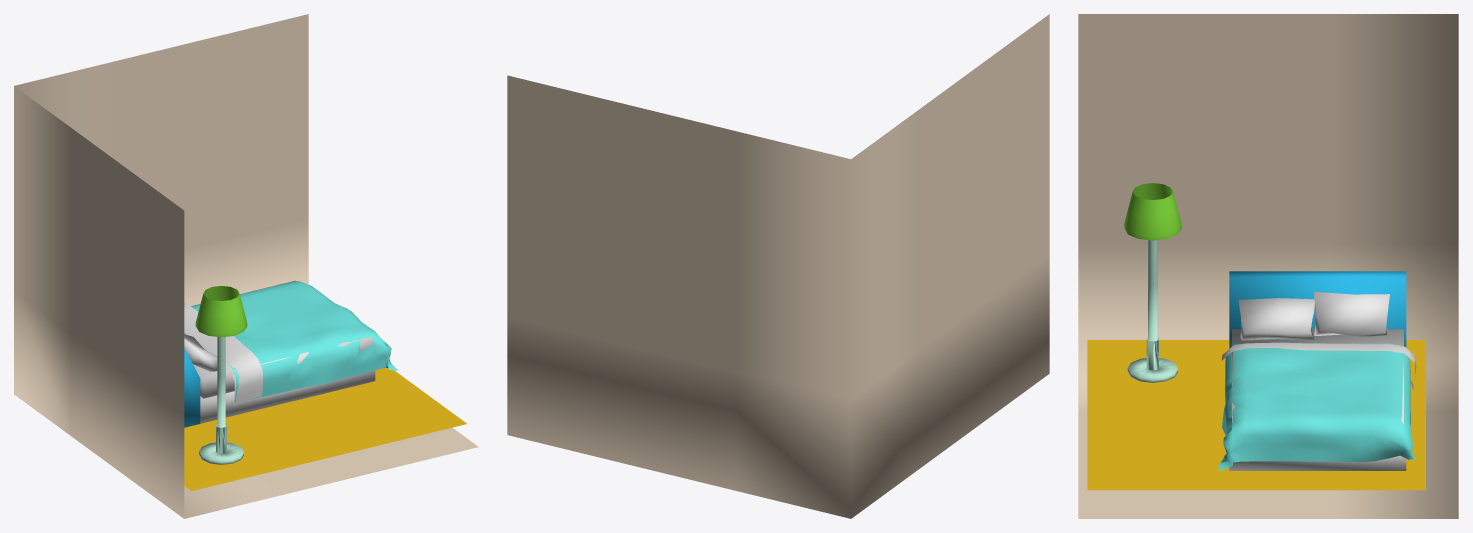
File: stamp03.glb
3 views of the same model, side by side, from view 1: azimuth 30°, elevation 25°; view 2: azimuth 150°, elevation 25°; view 3: azimuth 270°, elevation 25° (orthographic). The views are drawn at different scales.
Visible parts, largest first — view 1: 立方体, 立方体.001, 平面, 平面.001, 立方体.002, 円柱.001, 円柱, 立方体.004, 立方体.003, 立方体.005; view 2: 立方体; view 3: 立方体, 立方体.001, 平面, 立方体.003, 立方体.006, 立方体.005, 円柱.001, 円柱, 立方体.002, 立方体.004, 平面.001.
Part boxes in pixels (bbox=[...]): 立方体: bbox=[14, 14, 478, 518]; 立方体.001: bbox=[184, 368, 466, 491]; 平面: bbox=[184, 281, 397, 402]; 平面.001: bbox=[184, 303, 263, 405]; 立方体.002: bbox=[200, 370, 375, 423]; 円柱.001: bbox=[195, 286, 247, 337]; 円柱: bbox=[199, 337, 243, 464]; 立方体.004: bbox=[184, 280, 372, 398]; 立方体.003: bbox=[184, 348, 200, 427]; 立方体.005: bbox=[184, 334, 217, 371]; 立方体: bbox=[507, 14, 1049, 518]; 立方体: bbox=[1078, 14, 1458, 518]; 立方体.001: bbox=[1087, 340, 1425, 490]; 平面: bbox=[1218, 342, 1415, 470]; 立方体.003: bbox=[1229, 271, 1406, 348]; 立方体.006: bbox=[1313, 291, 1389, 336]; 立方体.005: bbox=[1238, 298, 1315, 340]; 円柱.001: bbox=[1124, 183, 1181, 240]; 円柱: bbox=[1127, 240, 1177, 382]; 立方体.002: bbox=[1229, 455, 1406, 470]; 立方体.004: bbox=[1232, 329, 1403, 423]; 平面.001: bbox=[1221, 343, 1416, 390].
Bounding box in the file's own units: 2 × 2 × 2.
